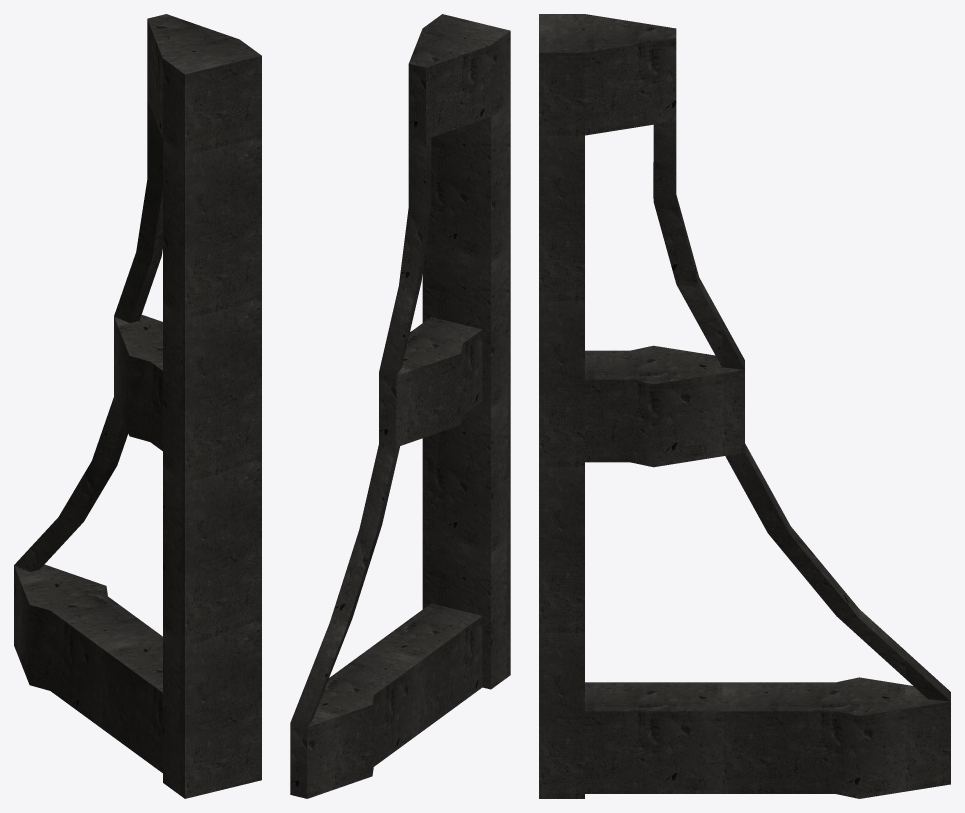
Rendered from SM_Support_03.FBX.
3 renders of one model, left to right at view 1: azimuth 30°, elevation 25°; view 2: azimuth 150°, elevation 25°; view 3: azimuth 270°, elevation 25°, orthographic. The views are drawn at different scales.
Parts seen in each view (by area): view 1: SM_Support_03; view 2: SM_Support_03; view 3: SM_Support_03.
Boxes of the visible parts, box(x1,y1,x2,y2) form: SM_Support_03: box(14, 14, 261, 798); SM_Support_03: box(290, 14, 510, 798); SM_Support_03: box(539, 14, 950, 798).
Size of what is drawn, in the model's own units: 64 by 288 by 576.
